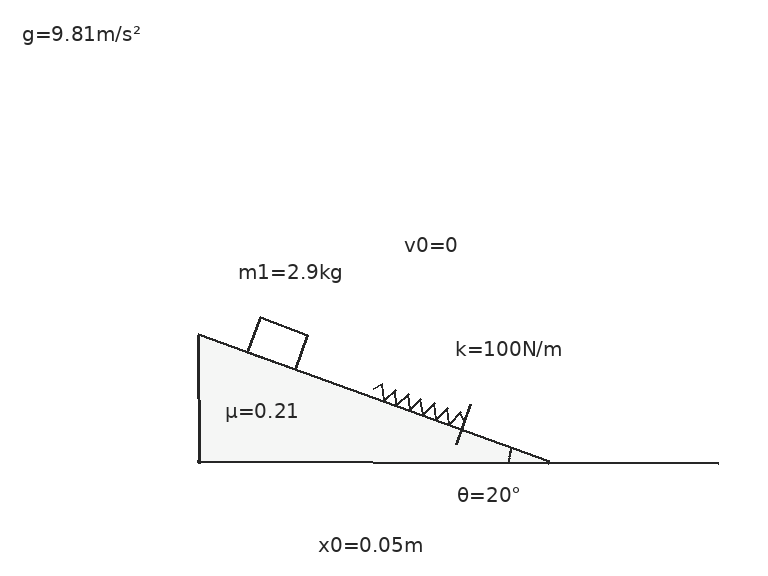block: (245, 315, 309, 371)
ramp: (196, 332, 551, 464)
spring: (371, 382, 466, 425)
